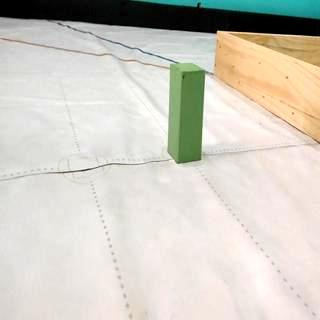greenbox: (166, 61, 206, 165)
